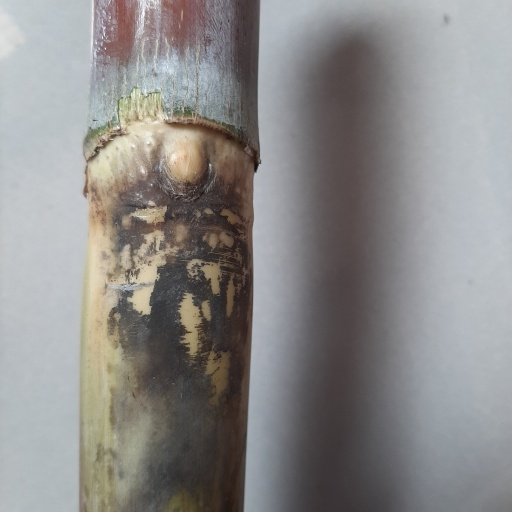Bud: (165, 138, 208, 188)
